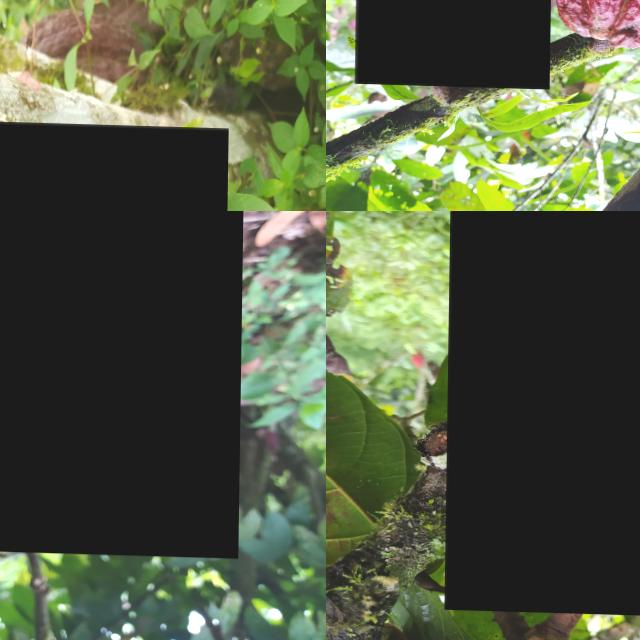Fitoftora: (0, 211, 245, 555), (356, 0, 554, 87)
Monilia: (446, 211, 640, 615)
Sana: (0, 114, 229, 211)
